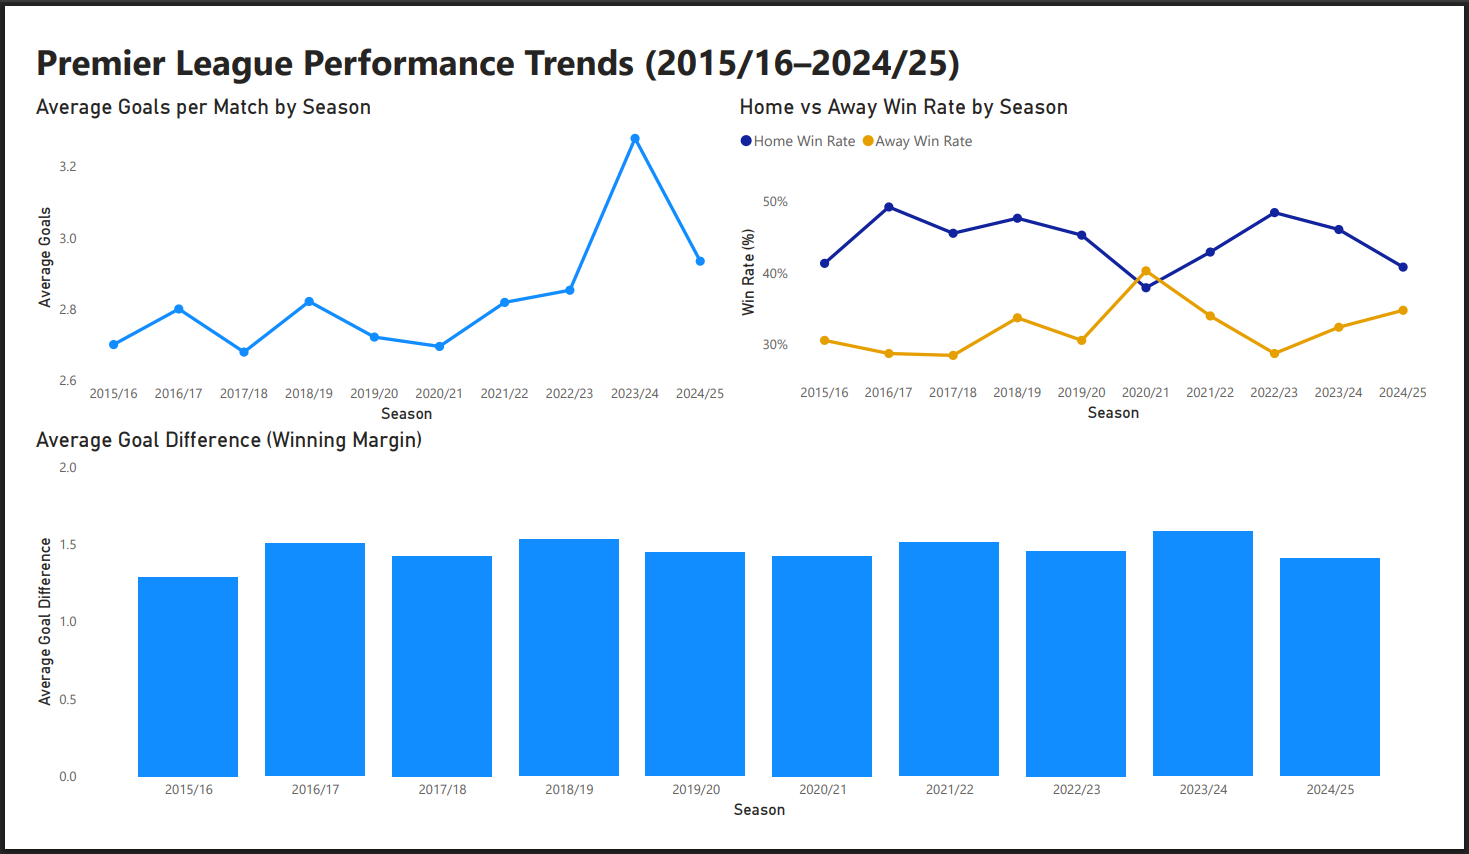

This screenshot's page, from the dashboard's own definition file:
{"tool":"powerbi","page":{"name":"Premier League Trends","canvas":[1280,720],"ordinal":0},"visuals":[{"type":"lineChart","title":"Average Goals per Match by Season","fields":{"Category":["premier_league_matches_clean.season_label"],"Y":["premier_league_matches_clean.Avg Goals"]},"box":[0,57.4,640,302.5],"z":0},{"type":"lineChart","title":"Home vs Away Win Rate by Season","fields":{"Category":["premier_league_matches_clean.season_label"],"Y":["premier_league_matches_clean.Home Win Rate","premier_league_matches_clean.Away Win Rate"]},"box":[640,57.4,640,302.5],"z":1000},{"type":"clusteredColumnChart","title":"Average Goal Difference (Winning Margin)","fields":{"Category":["premier_league_matches_clean.season_label"],"Y":["Avg(premier_league_matches_clean.abs_goal_diff)"]},"box":[0,359.9,1280,359.9],"z":2000},{"type":"textbox","box":[0,0,860.8,57.4],"z":3000}]}

Visuals, with their boxes on the page's 1280x720 design canvas (x1, y1, x2, y2). These are canvas units, not pixel positions in the 1469x854 screenshot, which may show the page scaled, cropped or inside an application window:
"Average Goals per Match by Season" lineChart: (left=0, top=57, right=640, bottom=360)
"Home vs Away Win Rate by Season" lineChart: (left=640, top=57, right=1280, bottom=360)
"Average Goal Difference (Winning Margin)" clusteredColumnChart: (left=0, top=360, right=1280, bottom=720)
textbox: (left=0, top=0, right=861, bottom=57)
